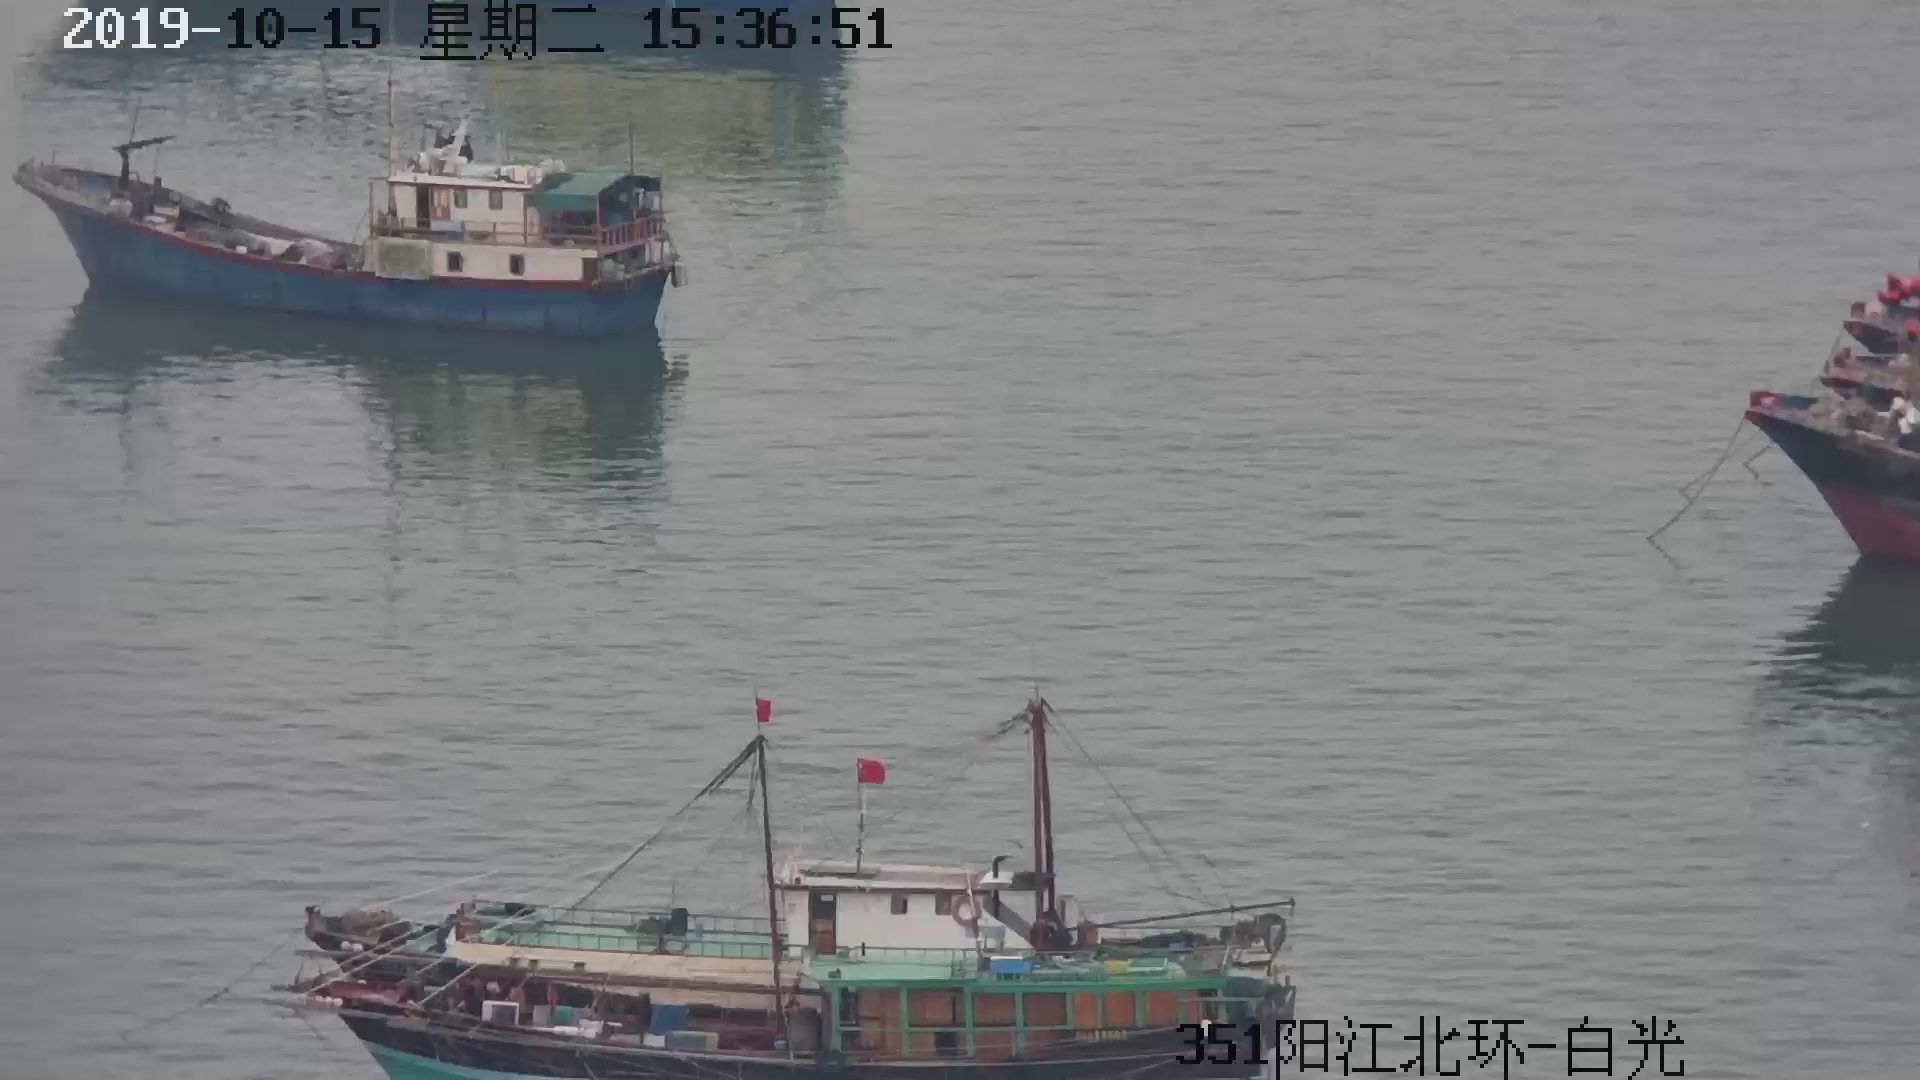ship: (295, 680, 1305, 1080), (22, 98, 669, 324)
